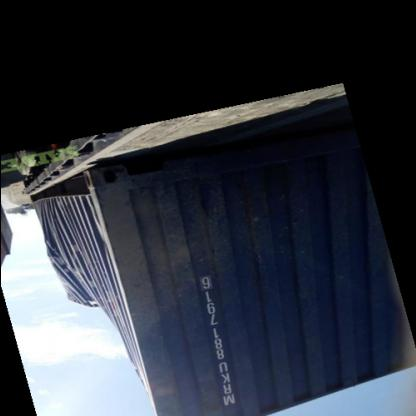Damage: (36, 196, 88, 314), (92, 228, 107, 258)
